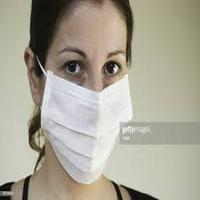flu mask: (38, 70, 140, 187)
